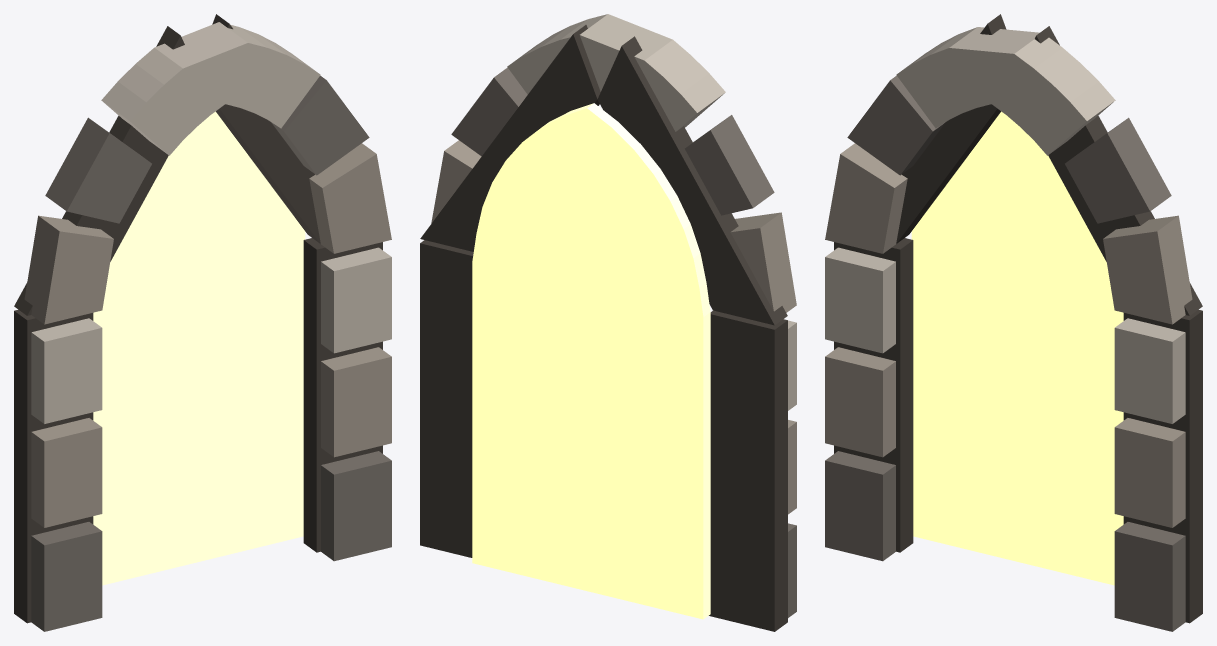
File: portal_da_sacada.glb
3 renders of one model, left to right at view 1: azimuth 30°, elevation 25°; view 2: azimuth 150°, elevation 25°; view 3: azimuth 330°, elevation 25°, orthographic.
Visible parts, largest first — view 1: Vao, PedraCentral, AduelaInferiorEsquerda, OmbreiraBaseEsquerda, OmbreiraFusteEsquerda, OmbreiraBaseDireita, OmbreiraFusteDireita, ArgamassaDireita, ArgamassaEsquerda, OmbreiraCapitelEsquerda, OmbreiraCapitelDireita, AduelaSuperiorEsquerda (+4 smaller); view 2: Vao, ArgamassaEsquerda, ArgamassaDireita, ArgamassaDoArcoEsq, PedraCentral, ArgamassaDoArcoDir, AduelaSuperiorEsquerda, AduelaInferiorEsquerda, AduelaSuperiorDireita, AduelaInferiorDireita, OmbreiraFusteEsquerda, OmbreiraBaseEsquerda (+1 smaller); view 3: Vao, PedraCentral, AduelaInferiorDireita, OmbreiraBaseDireita, OmbreiraFusteDireita, OmbreiraBaseEsquerda, OmbreiraFusteEsquerda, ArgamassaEsquerda, ArgamassaDireita, OmbreiraCapitelDireita, OmbreiraCapitelEsquerda, AduelaSuperiorDireita (+4 smaller).
Boxes of the visible parts, <box> form: Vao: <box>93,111,305,585</box>; PedraCentral: <box>101,22,320,155</box>; AduelaInferiorEsquerda: <box>24,215,113,324</box>; OmbreiraBaseEsquerda: <box>31,522,102,631</box>; OmbreiraFusteEsquerda: <box>31,418,102,527</box>; OmbreiraBaseDireita: <box>321,451,391,561</box>; OmbreiraFusteDireita: <box>321,347,391,457</box>; ArgamassaDireita: <box>303,238,382,552</box>; ArgamassaEsquerda: <box>14,309,93,623</box>; OmbreiraCapitelEsquerda: <box>31,318,102,423</box>; OmbreiraCapitelDireita: <box>321,247,391,353</box>; AduelaSuperiorEsquerda: <box>45,117,151,223</box>; Vao: <box>472,103,710,619</box>; ArgamassaEsquerda: <box>709,310,787,631</box>; ArgamassaDireita: <box>420,240,473,557</box>; ArgamassaDoArcoEsq: <box>597,36,787,325</box>; PedraCentral: <box>507,14,725,131</box>; ArgamassaDoArcoDir: <box>420,25,600,251</box>; AduelaSuperiorEsquerda: <box>685,115,774,215</box>; AduelaInferiorEsquerda: <box>730,212,796,312</box>; AduelaSuperiorDireita: <box>451,67,527,156</box>; AduelaInferiorDireita: <box>431,140,481,223</box>; OmbreiraFusteEsquerda: <box>788,420,796,514</box>; OmbreiraBaseEsquerda: <box>788,523,796,617</box>; Vao: <box>911,111,1123,585</box>; PedraCentral: <box>896,27,1115,155</box>; AduelaInferiorDireita: <box>1103,215,1192,324</box>; OmbreiraBaseDireita: <box>1114,522,1185,631</box>; OmbreiraFusteDireita: <box>1114,418,1185,527</box>; OmbreiraBaseEsquerda: <box>825,451,895,561</box>; OmbreiraFusteEsquerda: <box>825,347,895,457</box>; ArgamassaEsquerda: <box>834,238,913,552</box>; ArgamassaDireita: <box>1123,309,1202,623</box>; OmbreiraCapitelDireita: <box>1114,318,1185,423</box>; OmbreiraCapitelEsquerda: <box>825,247,895,353</box>; AduelaSuperiorDireita: <box>1065,117,1171,223</box>.
Size of the model in its own units: 1.72 by 2.54 by 0.36.
